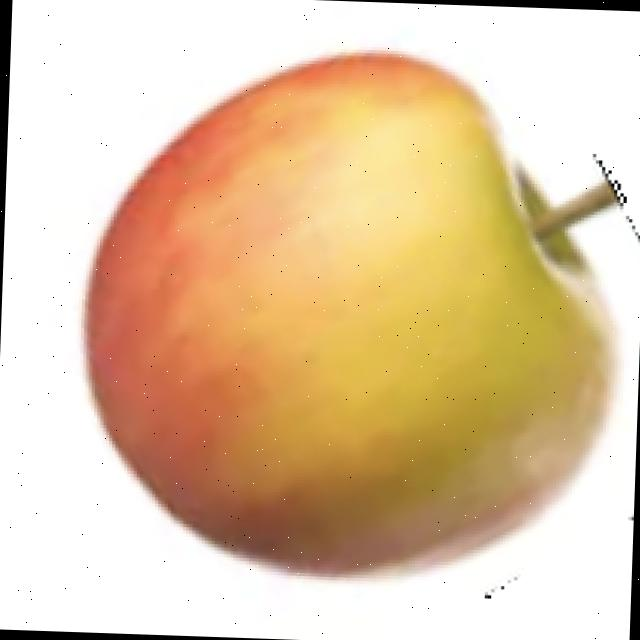apple: (74, 40, 640, 587)
